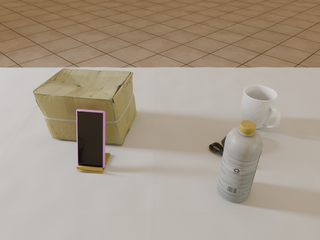bottle: (217, 120, 263, 202)
box: (33, 68, 137, 145)
cup: (241, 85, 280, 129)
phone: (76, 109, 106, 168)
